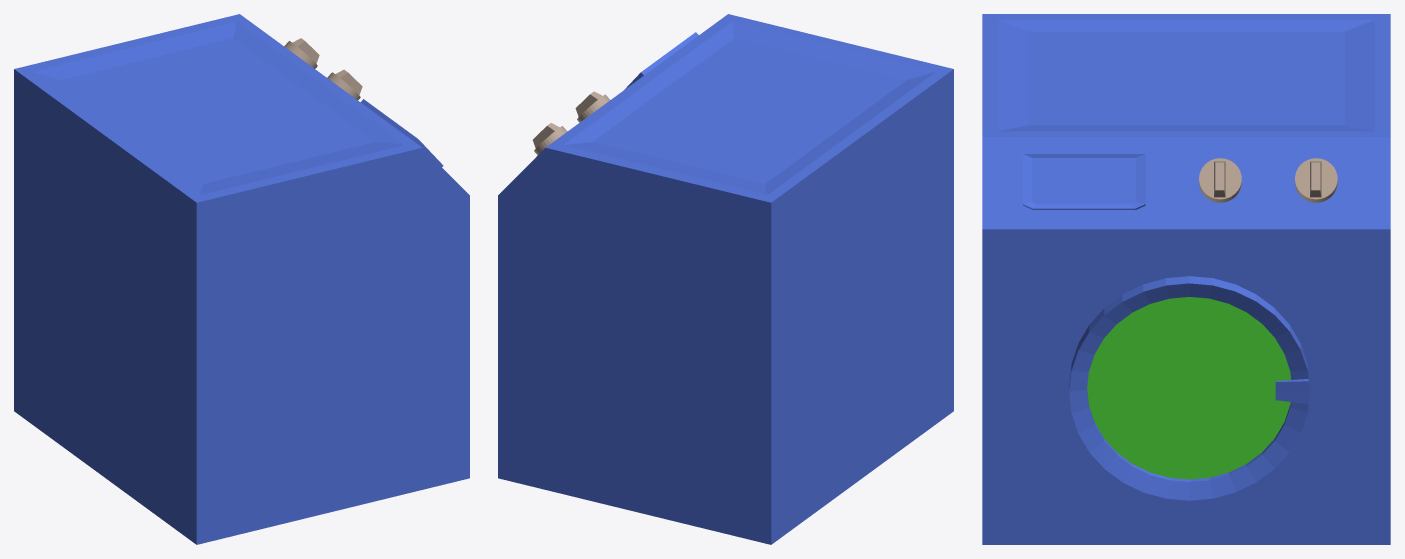
File: washingmachine.FIXED.fbx
3 renders of one model, left to right at view 1: azimuth 30°, elevation 25°; view 2: azimuth 150°, elevation 25°; view 3: azimuth 270°, elevation 25°, orthographic. The views are drawn at different scales.
Parts seen in each view (by area): view 1: machine, dials; view 2: machine, dials; view 3: machine, door.001, door, thing for detergent, dials, handle.
Part boxes in pixels (left/top/right/bottom): machine: left=14, top=14, right=469, bottom=544; dials: left=284, top=38, right=362, bottom=99; machine: left=498, top=14, right=953, bottom=544; dials: left=532, top=91, right=609, bottom=155; machine: left=982, top=14, right=1390, bottom=544; door.001: left=1087, top=297, right=1291, bottom=479; door: left=1069, top=276, right=1309, bottom=500; thing for detergent: left=1023, top=154, right=1145, bottom=209; dials: left=1199, top=158, right=1337, bottom=202; handle: left=1275, top=379, right=1309, bottom=403.
Bounding box in the file's own units: 212 × 239 × 232.
